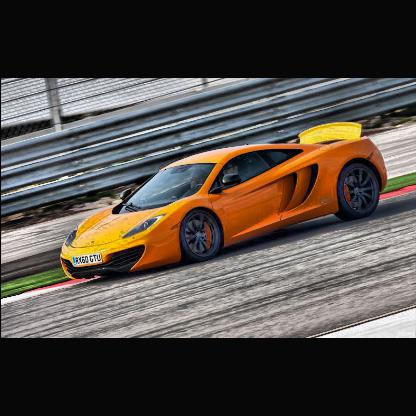McLaren MP4-12C Coupe 2012: (59, 121, 392, 283)
